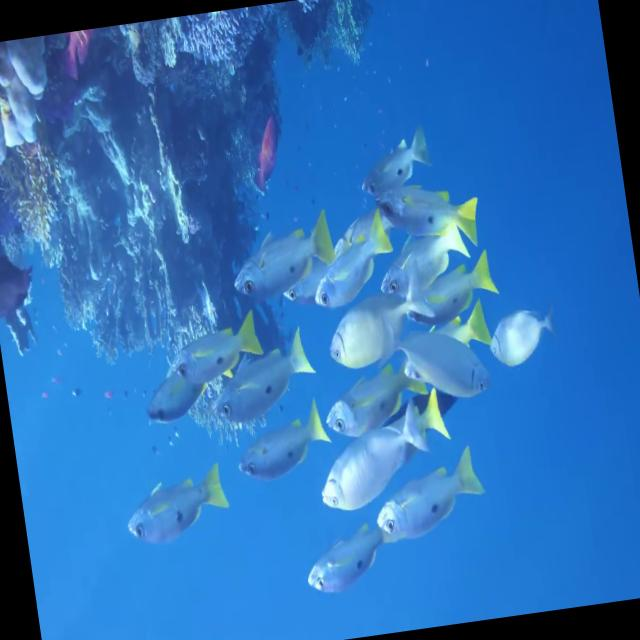fish: (366, 443, 492, 550), (312, 409, 434, 514), (200, 327, 319, 427), (317, 270, 432, 370), (117, 460, 235, 552), (223, 207, 338, 301), (366, 172, 486, 260), (319, 356, 437, 440), (304, 212, 398, 314), (301, 514, 414, 597), (374, 216, 471, 310), (397, 249, 498, 337), (395, 319, 491, 406), (140, 343, 238, 427), (232, 400, 332, 482), (164, 310, 257, 389), (353, 127, 436, 205), (482, 306, 554, 366)
